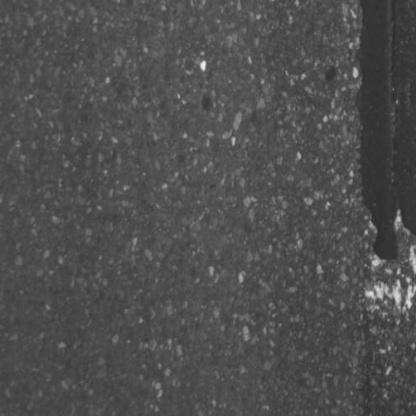Cracks: (385, 0, 402, 182)
